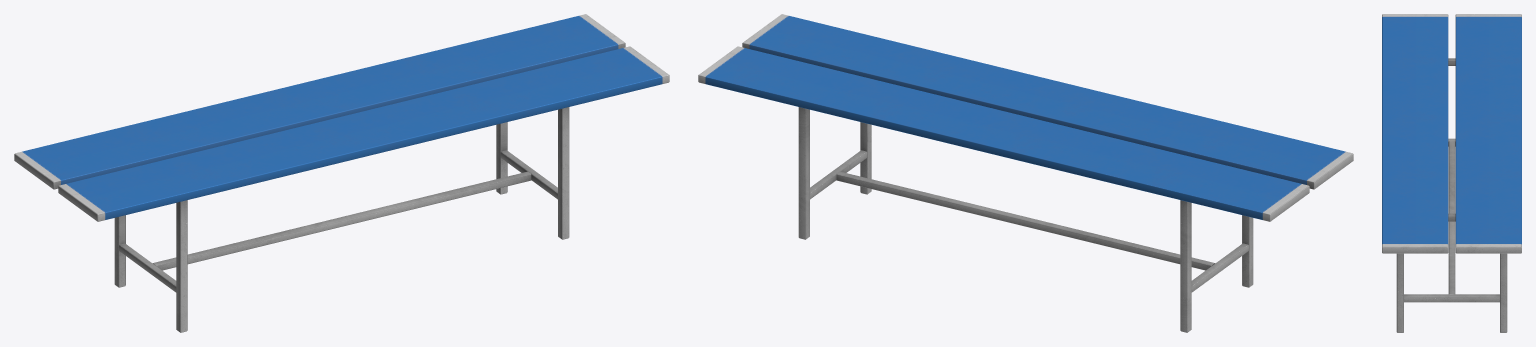
The model's file is DressingRoomBench.FBX.
The picture shows the model from 3 angles, left to right: view 1: azimuth 30°, elevation 25°; view 2: azimuth 150°, elevation 25°; view 3: azimuth 270°, elevation 25°; orthographic projection. The views are drawn at different scales.
Parts seen in each view (by area): view 1: DressingRoomBench; view 2: DressingRoomBench; view 3: DressingRoomBench.
Boxes of the visible parts, box(x1,y1,x2,y2) form: DressingRoomBench: box(14, 14, 669, 332); DressingRoomBench: box(698, 14, 1353, 332); DressingRoomBench: box(1382, 14, 1521, 332).
Bounding box in the file's own units: 150 × 37 × 38.
